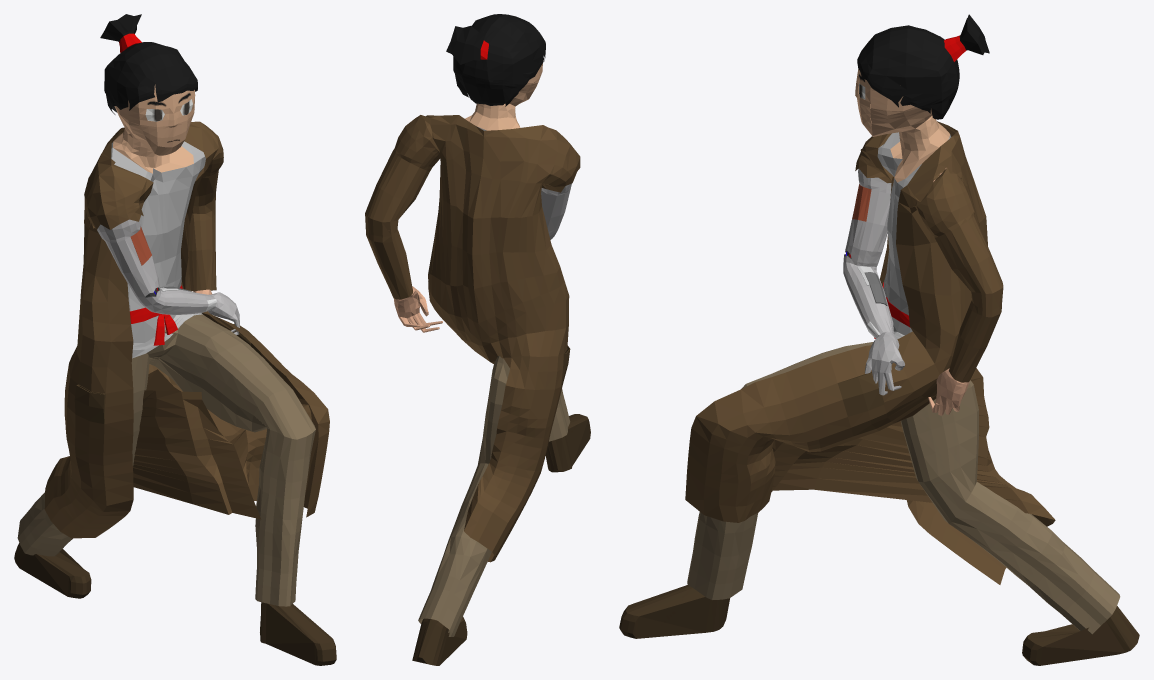
The model's file is One_RB_000013.obj.
The picture shows the model from 3 angles, left to right: view 1: azimuth 30°, elevation 25°; view 2: azimuth 150°, elevation 25°; view 3: azimuth 270°, elevation 25°; orthographic projection. The views are drawn at different scales.
Parts seen in each view (by area): view 1: Hair_Cube.004; view 2: Hair_Cube.004; view 3: Hair_Cube.004.
Boxes of the visible parts, box(x1,y1,x2,y2) form: Hair_Cube.004: box(14, 14, 336, 665); Hair_Cube.004: box(365, 14, 590, 665); Hair_Cube.004: box(619, 14, 1139, 665).
Size of the model in its own units: 1.07 by 3.56 by 2.58.
